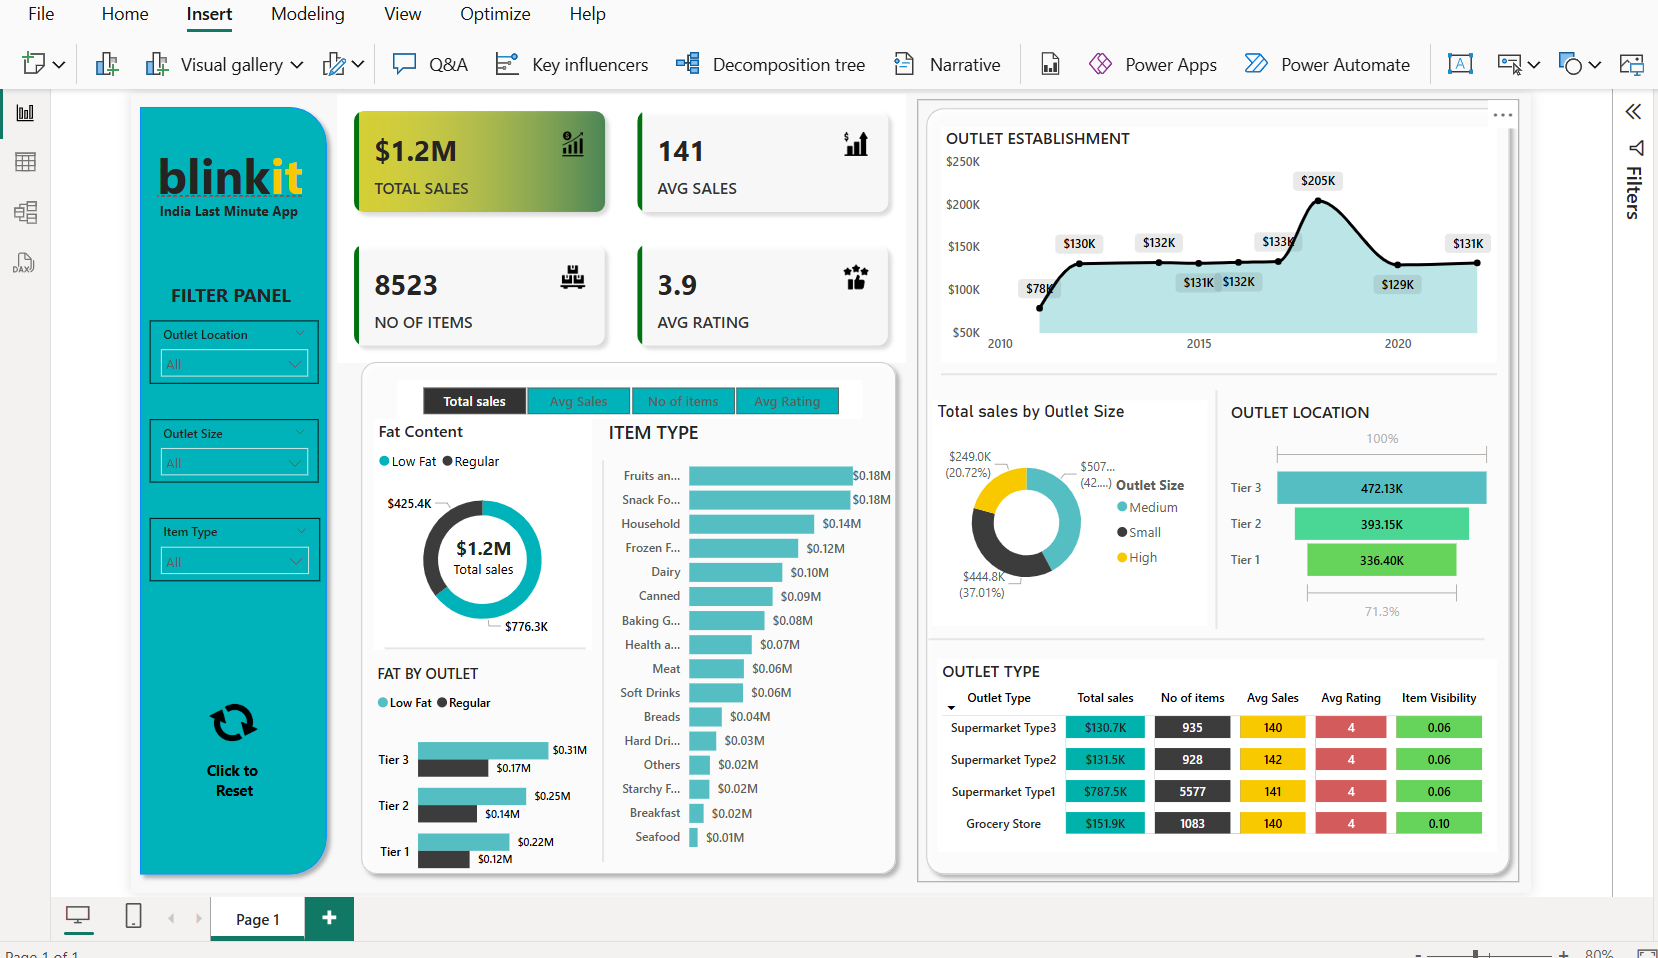

What the dashboard file says about the page in this screenshot:
{"tool":"powerbi","page":{"name":"Page 1","canvas":[1400,800],"ordinal":0},"visuals":[{"type":"shape","box":[0,5.4,205.1,785.5],"z":0},{"type":"textbox","box":[21.4,44.2,183.6,73.7],"z":1000},{"type":"textbox","box":[24.1,103.2,158.2,29.5],"z":2000},{"type":"cardVisual","fields":{"Data":["BlinkIT Grocery Data.Total sales","BlinkIT Grocery Data.Avg Sales","BlinkIT Grocery Data.No of items","BlinkIT Grocery Data.Avg Rating"]},"box":[205.7,1.4,568.6,268.6],"z":3000},{"type":"shape","box":[221.4,260,552.9,530],"z":4000},{"type":"donutChart","title":"Fat Content","fields":{"Y":["BlinkIT Grocery Data.Total sales"],"Category":["BlinkIT Grocery Data.Item Fat Content"]},"box":[242.9,325.7,218.6,230],"z":5000},{"type":"slicer","fields":{"Values":["Matrix.Matrix"]},"box":[265.7,287.1,465.7,38.6],"z":6000},{"type":"cardVisual","fields":{"Data":["BlinkIT Grocery Data.Total sales"]},"box":[300.3,424.9,105.9,75.1],"z":7000},{"type":"clusteredBarChart","title":"FAT BY OUTLET","fields":{"Y":["BlinkIT Grocery Data.Total sales"],"Category":["BlinkIT Grocery Data.Outlet Location Type"],"Series":["BlinkIT Grocery Data.Item Fat Content"]},"box":[241.3,569.7,219.8,230.6],"z":8000},{"type":"shape","box":[253.6,544.5,200.9,20.9],"z":9000},{"type":"shape","box":[462.7,367.3,19.1,401.8],"z":10000},{"type":"barChart","title":"ITEM TYPE","fields":{"Y":["BlinkIT Grocery Data.Total sales"],"Category":["BlinkIT Grocery Data.Item Type"]},"box":[472.9,325.7,292.9,442.9],"z":11000},{"type":"shape","box":[785.7,5.7,601.4,784.3],"z":12000},{"type":"lineChart","title":"OUTLET ESTABLISHMENT","fields":{"Y":["BlinkIT Grocery Data.Total sales"],"Category":["BlinkIT Grocery Data.Outlet Establishment Year"]},"box":[810,34.3,555.7,235.7],"z":13000},{"type":"shape","box":[809.7,270.8,556.3,20.1],"z":14000},{"type":"donutChart","title":"OUTLET SIZE","fields":{"Y":["BlinkIT Grocery Data.Total sales"],"Category":["BlinkIT Grocery Data.Outlet Size"]},"box":[801.6,307,274.8,225.2],"z":15000},{"type":"shape","box":[1076.4,297.6,18.8,238.6],"z":16000},{"type":"funnel","title":"OUTLET LOCATION","fields":{"Y":["Sum(BlinkIT Grocery Data.Sales)"],"Category":["BlinkIT Grocery Data.Outlet Location Type"]},"box":[1095.2,307,270.8,225.2],"z":17000},{"type":"shape","box":[797.6,536.2,556.3,20.1],"z":18000},{"type":"pivotTable","title":"OUTLET TYPE","fields":{"Rows":["BlinkIT Grocery Data.Outlet Type"],"Values":["BlinkIT Grocery Data.Total sales","BlinkIT Grocery Data.No of items","BlinkIT Grocery Data.Avg Sales","BlinkIT Grocery Data.Avg Rating","Avg(BlinkIT Grocery Data.Item Visibility)"]},"box":[805.6,565.7,560.3,193],"z":19000},{"type":"slicer","fields":{"Values":["BlinkIT Grocery Data.Outlet Location Type"]},"box":[18.8,227.9,168.9,63],"z":20000},{"type":"slicer","fields":{"Values":["BlinkIT Grocery Data.Item Type"]},"box":[18.8,424.9,170.2,63],"z":21000},{"type":"slicer","fields":{"Values":["BlinkIT Grocery Data.Outlet Size"]},"box":[18.8,325.7,168.9,63],"z":22000},{"type":"textbox","box":[34.9,183.6,139.4,34.9],"z":23000},{"type":"image","box":[72.4,556.3,63,63],"z":24000}]}

Visuals, with their boxes on the page's 1400x800 design canvas (x1, y1, x2, y2). These are canvas units, not pixel positions in the 1658x958 screenshot, which may show the page scaled, cropped or inside an application window:
shape: <box>0,5,205,791</box>
textbox: <box>21,44,205,118</box>
textbox: <box>24,103,182,133</box>
cardVisual - BlinkIT Grocery Data.Total sales x BlinkIT Grocery Data.Avg Sales: <box>206,1,774,270</box>
shape: <box>221,260,774,790</box>
"Fat Content" donutChart: <box>243,326,462,556</box>
slicer - Matrix.Matrix: <box>266,287,731,326</box>
cardVisual - BlinkIT Grocery Data.Total sales: <box>300,425,406,500</box>
"FAT BY OUTLET" clusteredBarChart: <box>241,570,461,800</box>
shape: <box>254,544,454,565</box>
shape: <box>463,367,482,769</box>
"ITEM TYPE" barChart: <box>473,326,766,769</box>
shape: <box>786,6,1387,790</box>
"OUTLET ESTABLISHMENT" lineChart: <box>810,34,1366,270</box>
shape: <box>810,271,1366,291</box>
"OUTLET SIZE" donutChart: <box>802,307,1076,532</box>
shape: <box>1076,298,1095,536</box>
"OUTLET LOCATION" funnel: <box>1095,307,1366,532</box>
shape: <box>798,536,1354,556</box>
"OUTLET TYPE" pivotTable: <box>806,566,1366,759</box>
slicer - BlinkIT Grocery Data.Outlet Location Type: <box>19,228,188,291</box>
slicer - BlinkIT Grocery Data.Item Type: <box>19,425,189,488</box>
slicer - BlinkIT Grocery Data.Outlet Size: <box>19,326,188,389</box>
textbox: <box>35,184,174,218</box>
image: <box>72,556,135,619</box>
